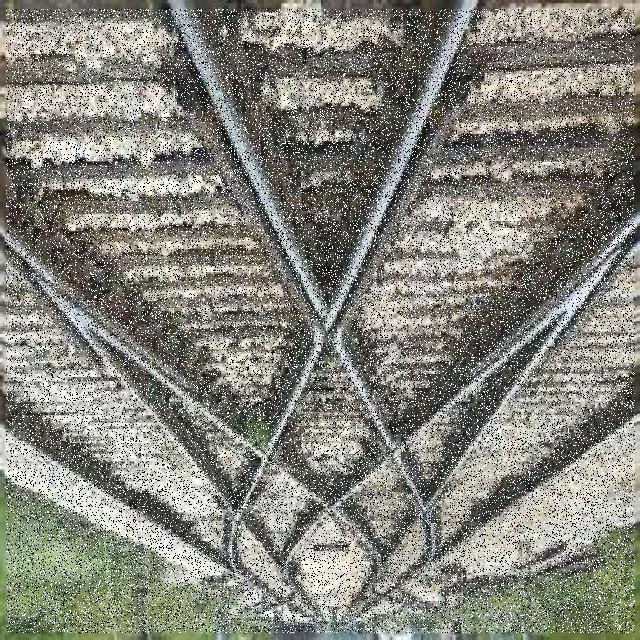rail: (7, 11, 636, 634)
